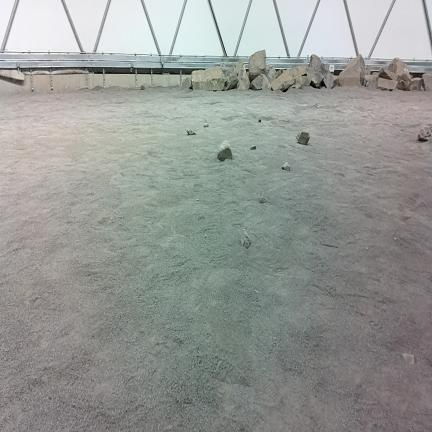Rock: (337, 54, 365, 87), (272, 66, 308, 91), (191, 67, 225, 90), (307, 55, 327, 87), (249, 50, 265, 81), (397, 72, 422, 90), (221, 64, 238, 90), (389, 58, 409, 76), (251, 74, 271, 90), (237, 66, 250, 90), (218, 140, 232, 161), (377, 78, 397, 90), (324, 71, 338, 88), (379, 68, 397, 81), (418, 124, 431, 141), (265, 64, 276, 82), (241, 229, 251, 248), (364, 75, 377, 89), (295, 76, 309, 88), (422, 73, 431, 91), (297, 132, 309, 145), (402, 353, 415, 364), (235, 61, 243, 75), (182, 78, 191, 89), (259, 194, 268, 203), (282, 163, 290, 171), (276, 70, 283, 77), (187, 130, 196, 135), (365, 66, 370, 74), (325, 65, 331, 71), (141, 84, 147, 90), (372, 72, 378, 76), (251, 146, 256, 149), (204, 124, 208, 127), (258, 119, 261, 122)
